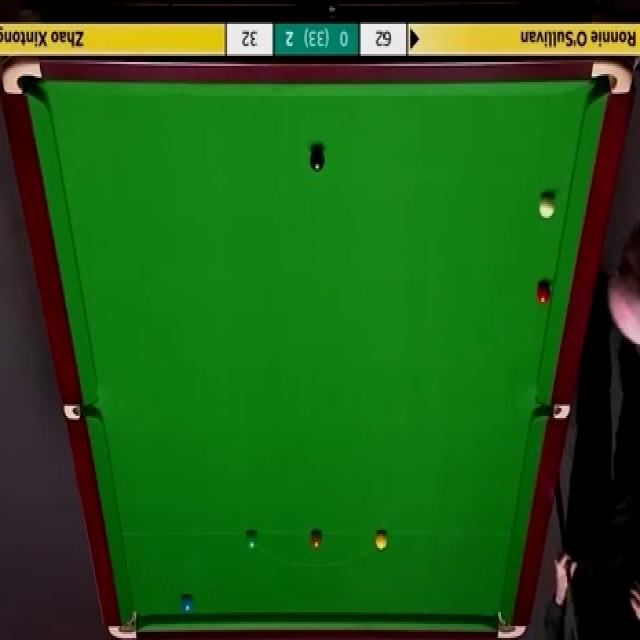pocket: (588, 57, 637, 92), (1, 58, 42, 98), (492, 604, 529, 638), (111, 608, 139, 638), (536, 403, 571, 422), (65, 403, 95, 419)
